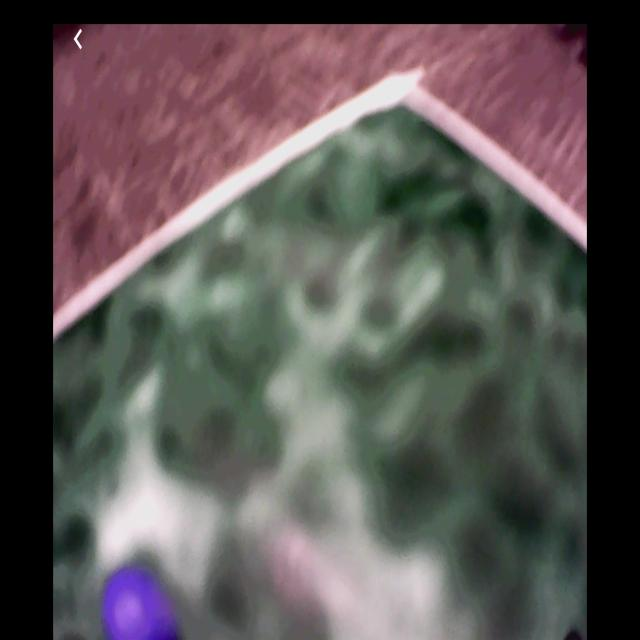ball: (100, 568, 173, 640)
